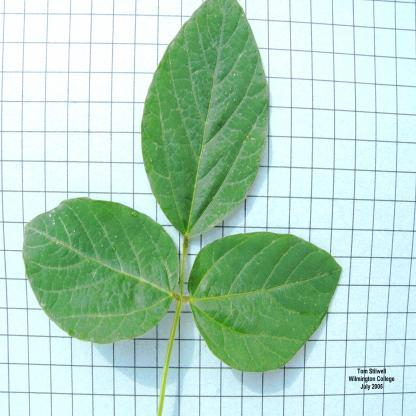Soyabean leaf: (138, 0, 273, 239), (19, 195, 179, 343), (188, 229, 344, 374)
